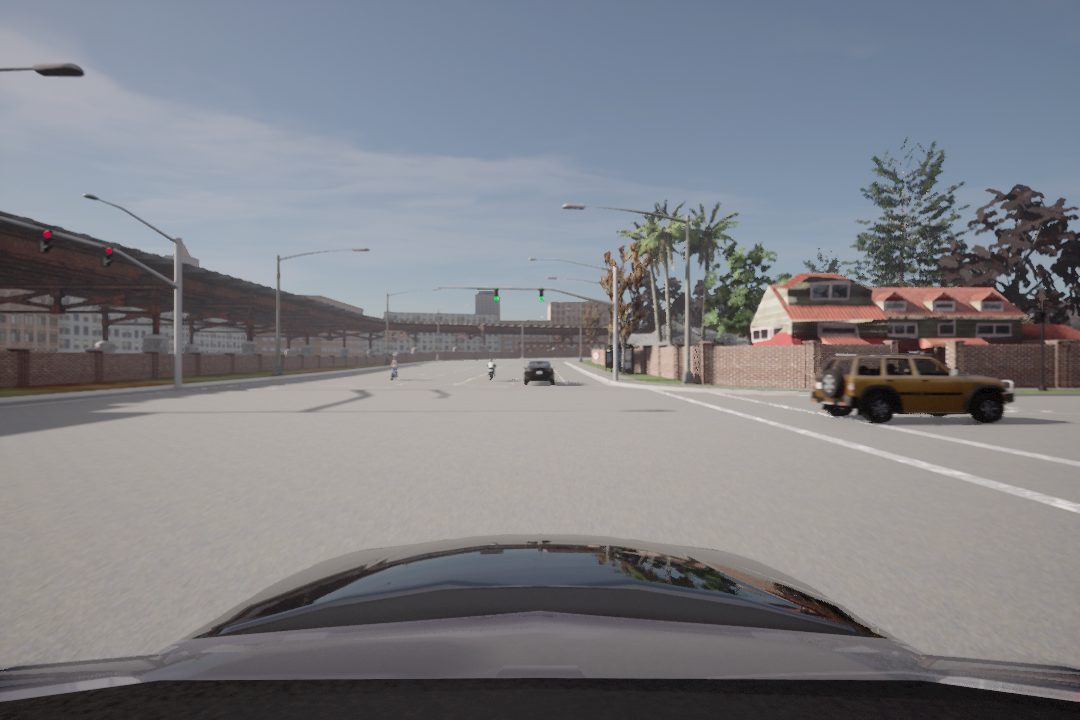TrafficLight: (97, 241, 117, 271), (36, 227, 52, 253), (491, 287, 502, 306), (536, 287, 545, 301)
